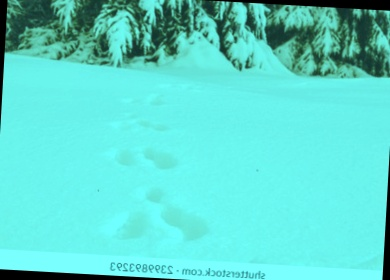lapin: (101, 178, 212, 253), (108, 108, 171, 134), (139, 139, 181, 173), (106, 143, 138, 168)
